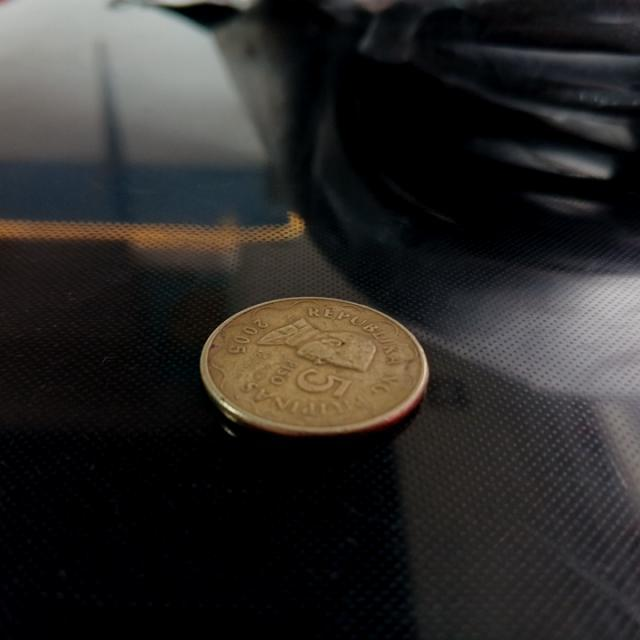5 peso-old: (190, 286, 433, 446)
